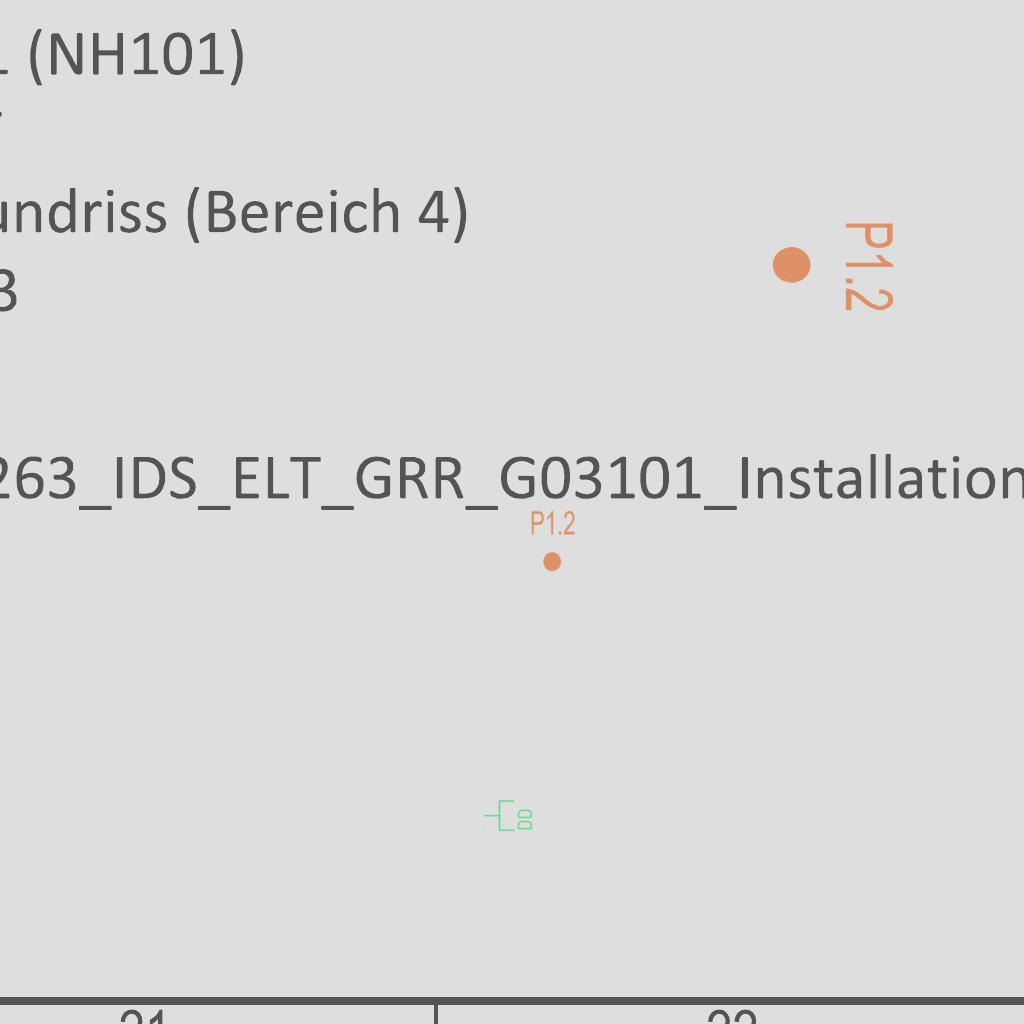Datenanschluss_zweifach: (483, 799, 534, 833)
Downlight_LED_Einbauleuchten_Flur: (769, 220, 897, 313), (530, 509, 576, 573)
